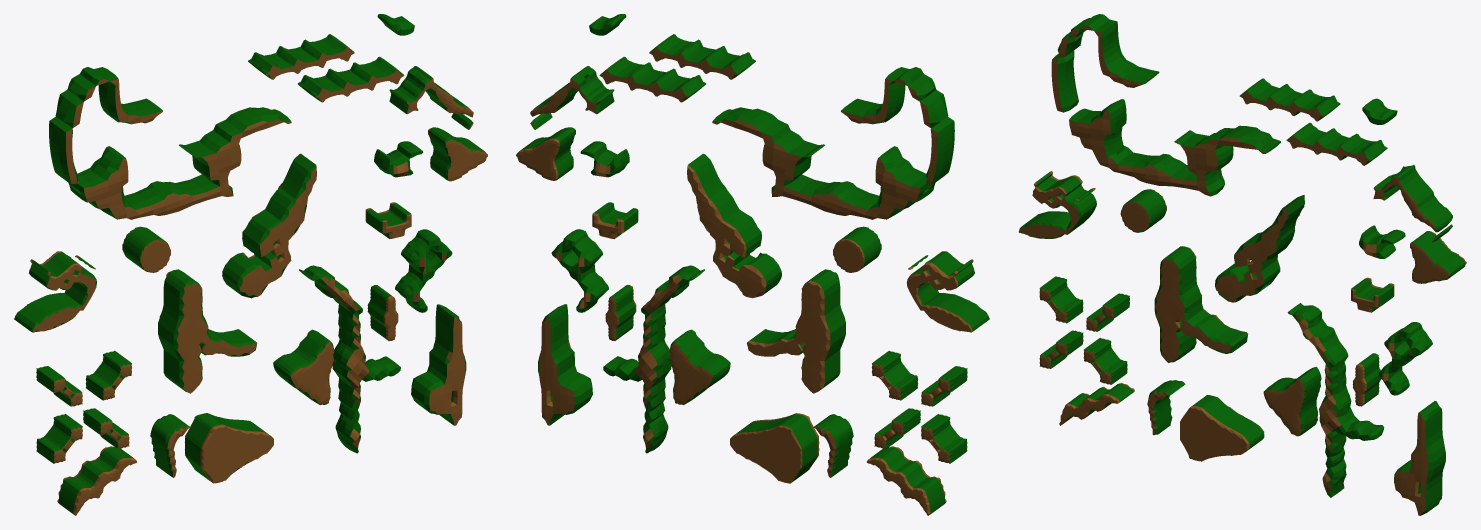
File: levelTest.fbx
3 views of the same model, side by side, from view 1: azimuth 30°, elevation 25°; view 2: azimuth 150°, elevation 25°; view 3: azimuth 330°, elevation 25° (orthographic). The views are drawn at different scales.
Parts seen in each view (by area): view 1: Cylinder.009, Cube.029, Cube.004, Cylinder.021, Cube.035, Cylinder.020, Cube.031, Cylinder.019, Cylinder.017, Cube.026, Cube.042, Cube.039 (+11 smaller); view 2: Cylinder.009, Cube.029, Cube.004, Cylinder.021, Cube.035, Cylinder.020, Cube.031, Cylinder.019, Cylinder.017, Cube.026, Cube.042, Cube.039 (+11 smaller); view 3: Cylinder.009, Cube.004, Cylinder.021, Cube.029, Cube.035, Cylinder.020, Cube.031, Cylinder.019, Cylinder.008, Cube.039, Cube.042, Cube.026 (+12 smaller).
Part boxes in pixels (<box>): Cylinder.009: <box>49,67,291,219</box>; Cube.029: <box>222,153,316,298</box>; Cube.004: <box>158,269,257,393</box>; Cylinder.021: <box>299,265,400,453</box>; Cube.035: <box>184,413,273,483</box>; Cylinder.020: <box>411,304,466,425</box>; Cube.031: <box>14,251,96,332</box>; Cylinder.019: <box>273,329,334,405</box>; Cylinder.017: <box>57,446,136,515</box>; Cube.026: <box>395,229,452,312</box>; Cube.042: <box>248,34,354,79</box>; Cube.039: <box>297,56,404,102</box>; Cylinder.009: <box>712,67,954,219</box>; Cube.029: <box>687,153,781,298</box>; Cube.004: <box>747,269,845,393</box>; Cylinder.021: <box>603,265,704,453</box>; Cube.035: <box>730,413,819,483</box>; Cylinder.020: <box>538,304,592,425</box>; Cube.031: <box>907,251,989,332</box>; Cylinder.019: <box>669,329,730,404</box>; Cylinder.017: <box>867,446,946,515</box>; Cube.026: <box>551,229,608,312</box>; Cube.042: <box>649,34,755,79</box>; Cube.039: <box>599,56,706,102</box>; Cylinder.009: <box>1051,14,1280,196</box>; Cube.004: <box>1154,246,1248,362</box>; Cylinder.021: <box>1287,303,1384,497</box>; Cube.029: <box>1215,195,1304,302</box>; Cube.035: <box>1180,395,1264,461</box>; Cylinder.020: <box>1394,401,1445,515</box>; Cube.031: <box>1018,171,1096,238</box>; Cylinder.019: <box>1263,367,1321,436</box>; Cylinder.008: <box>1373,165,1452,242</box>; Cube.039: <box>1286,122,1387,165</box>; Cube.042: <box>1239,78,1340,121</box>; Cube.026: <box>1378,322,1432,395</box>.
Bounding box in the file's own units: 7267 × 6690 × 502.
